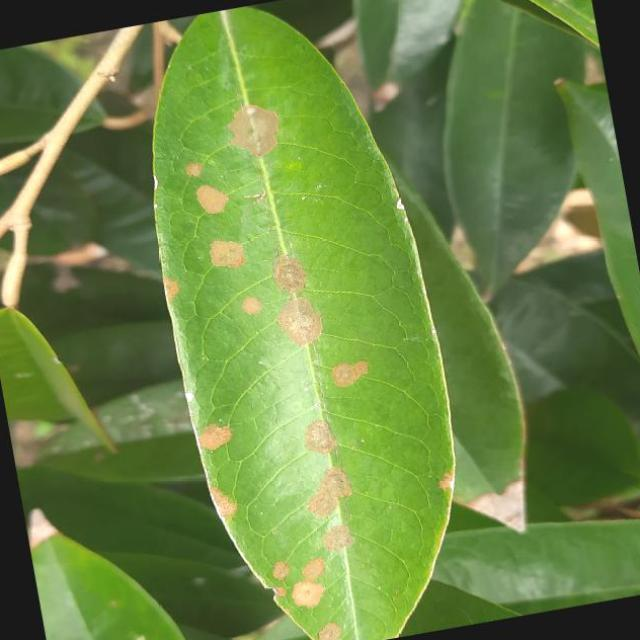Algal Leaf Spot: (107, 0, 496, 640)
